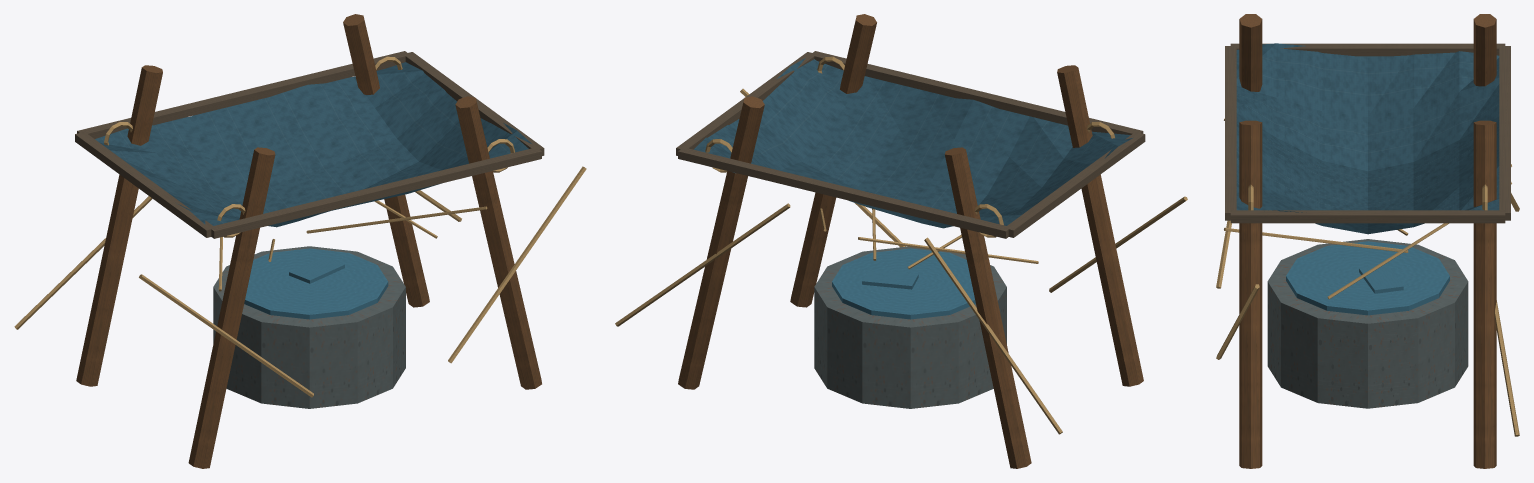
Rendered from pr-016_water_collector__full.obj.
3 renders of one model, left to right at view 1: azimuth 30°, elevation 25°; view 2: azimuth 150°, elevation 25°; view 3: azimuth 270°, elevation 25°, orthographic. The views are drawn at different scales.
Visible parts, largest first — view 1: pr-016_water_collector__full; view 2: pr-016_water_collector__full; view 3: pr-016_water_collector__full.
Part boxes in pixels (x1,y1,x2,y2): pr-016_water_collector__full: [14, 14, 586, 468]; pr-016_water_collector__full: [615, 14, 1187, 468]; pr-016_water_collector__full: [1216, 14, 1519, 468].
Bounding box in the file's own units: 1.61 × 1.04 × 0.9078.
6 materials, 6 textured.
